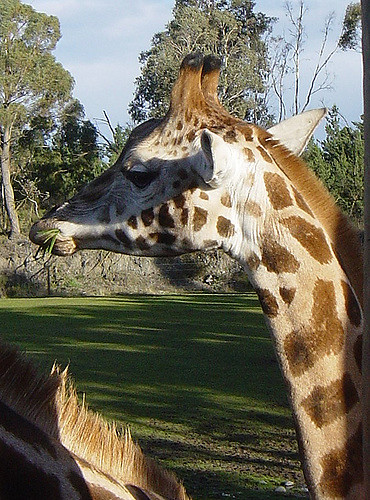giraffe: (35, 53, 355, 457)
